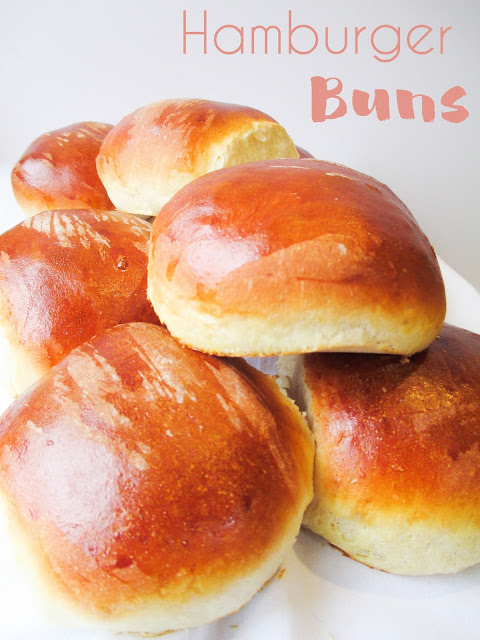hamburger_buns: (17, 119, 474, 596)
